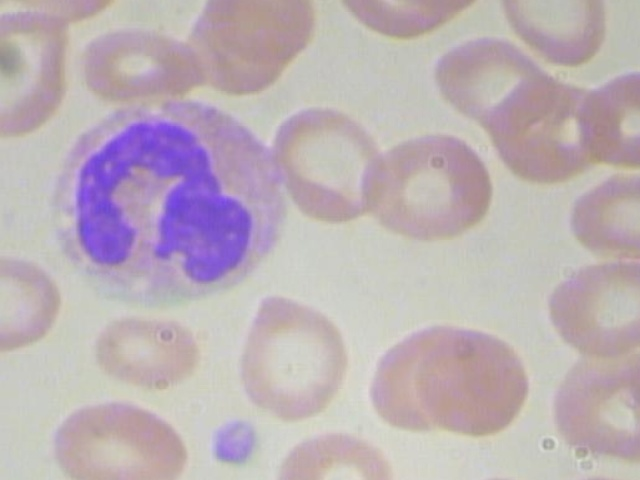Platelets: (204, 409, 262, 470)
RBC: (262, 99, 396, 234), (359, 126, 500, 244), (411, 29, 559, 139), (234, 292, 355, 425), (416, 312, 538, 439), (47, 390, 198, 480), (73, 23, 214, 106), (547, 340, 640, 462), (540, 251, 640, 363), (0, 7, 79, 142), (87, 309, 209, 396), (557, 161, 640, 277), (201, 0, 324, 71), (493, 0, 612, 71), (0, 241, 72, 354), (574, 63, 640, 173), (269, 427, 402, 480)
WBC: (45, 93, 294, 310)
